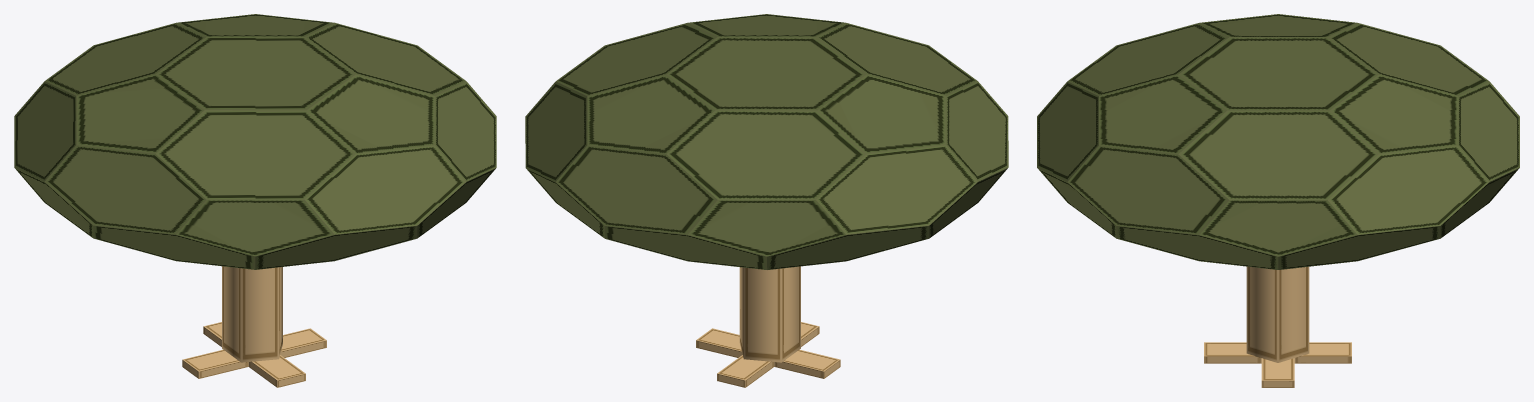
The model's file is Tree019.FBX.
3 renders of one model, left to right at view 1: azimuth 30°, elevation 25°; view 2: azimuth 150°, elevation 25°; view 3: azimuth 270°, elevation 25°, orthographic.
Visible parts, largest first — view 1: tree019; view 2: tree019; view 3: tree019.
Part boxes in pixels (left/top/right/bottom): tree019: left=14, top=14, right=496, bottom=387; tree019: left=525, top=14, right=1008, bottom=387; tree019: left=1037, top=14, right=1519, bottom=387.
Bounding box in the file's own units: 296 × 190 × 293.
Materials: 1 (1 with a texture image).
